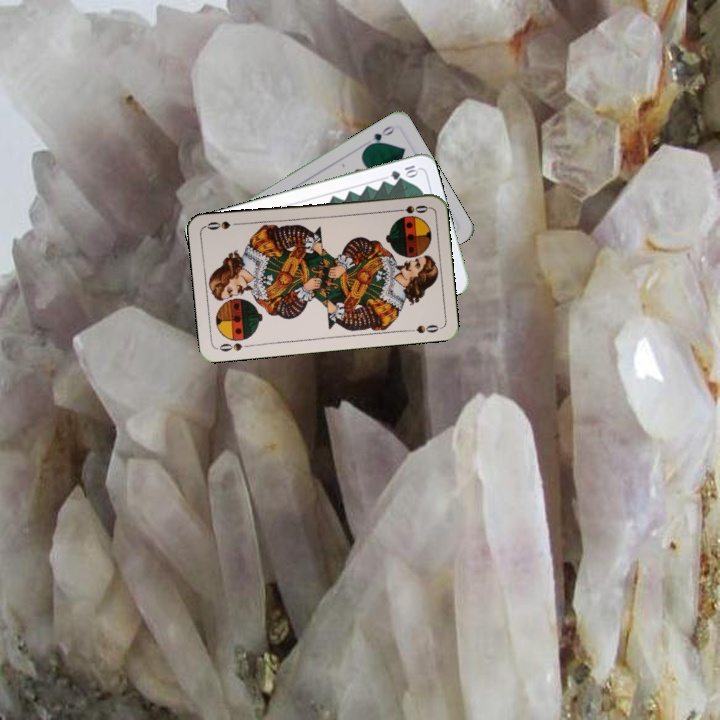G10: (387, 161, 421, 182)
GO: (362, 122, 398, 150)
SO: (390, 201, 431, 216), (214, 339, 254, 354)
